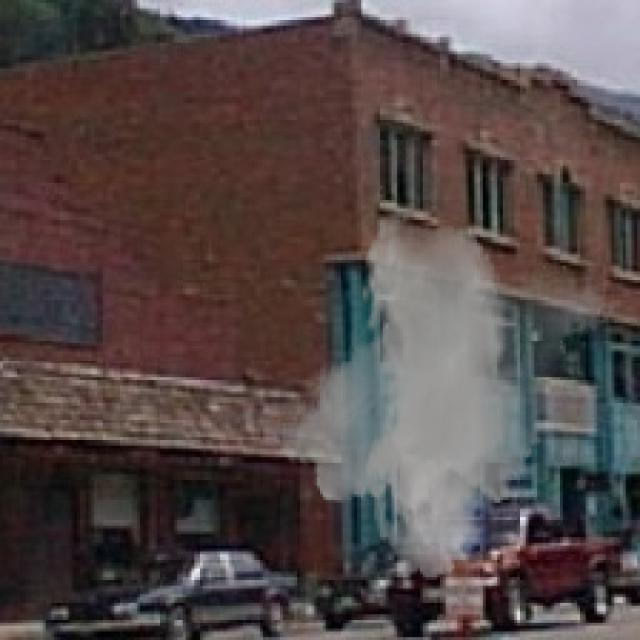smoke: (272, 209, 617, 580)
